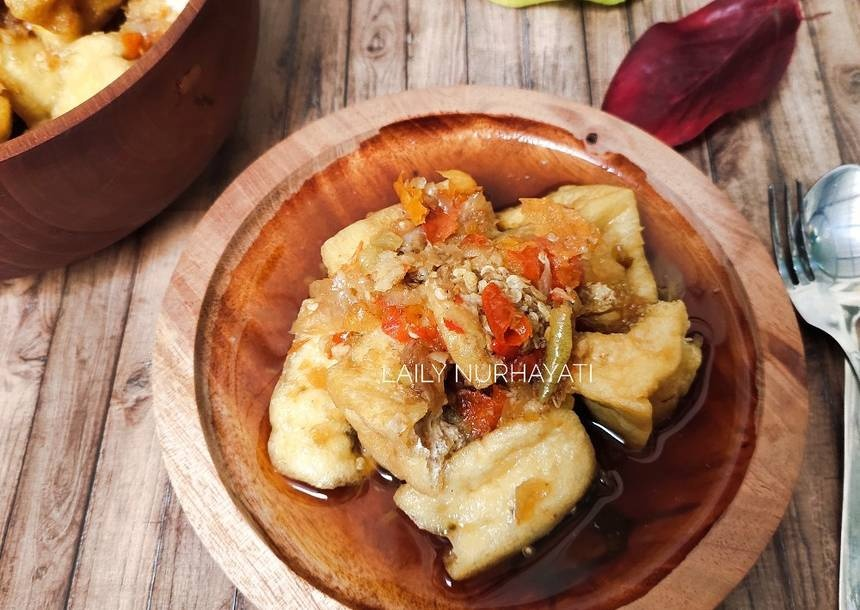tahu_gejrot: (263, 171, 707, 596)
